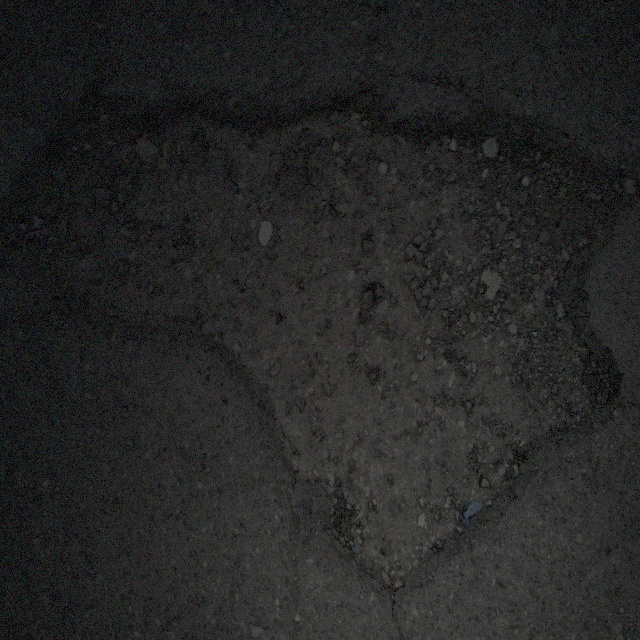pothole: (6, 67, 626, 589)
